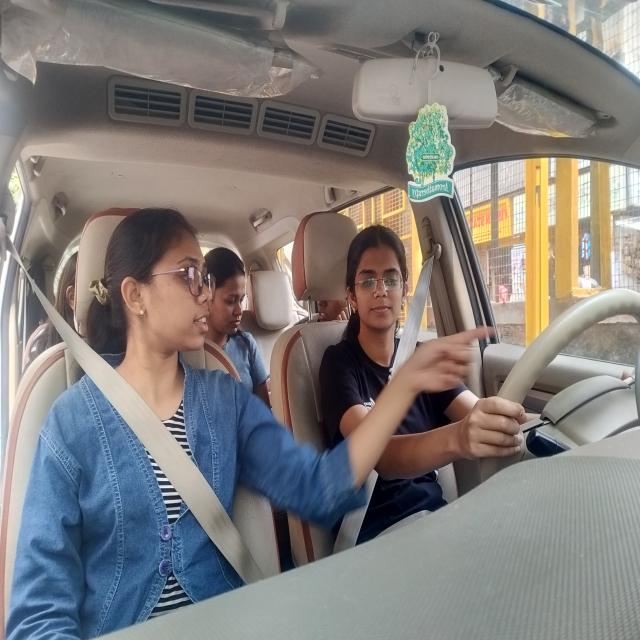person: (100, 196, 219, 371), (344, 224, 418, 355), (201, 218, 252, 349)
